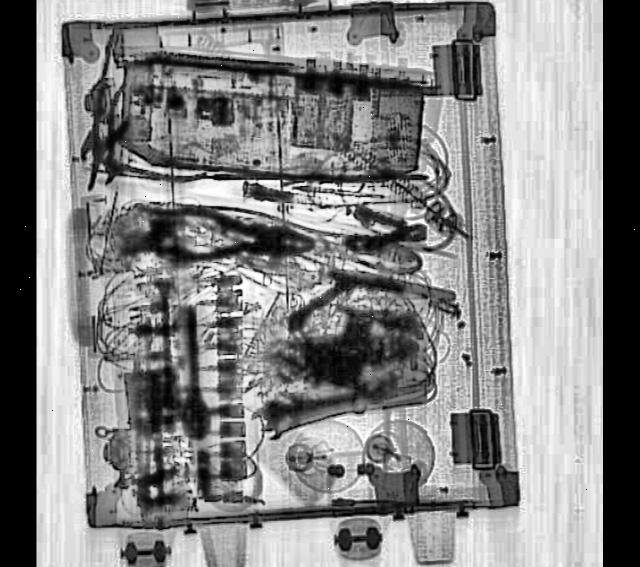Pliers: (78, 62, 208, 227), (138, 198, 318, 269)
Wrench: (251, 376, 364, 436)
